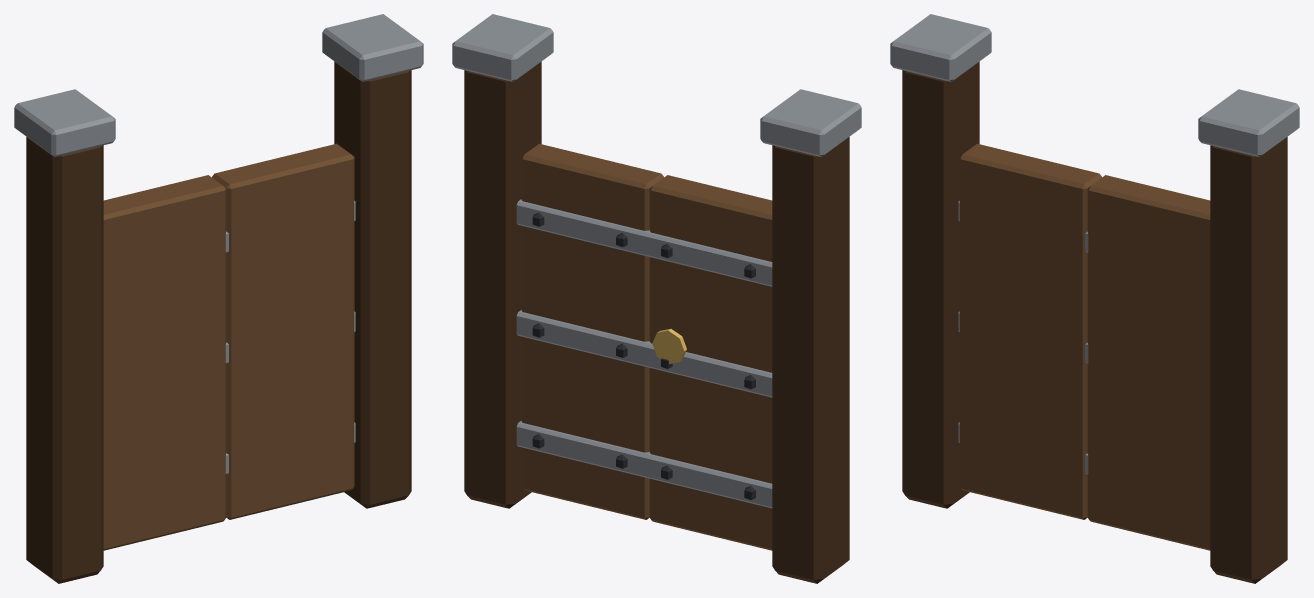
Rendered from gate_iron.fbx.
3 views of the same model, side by side, from view 1: azimuth 30°, elevation 25°; view 2: azimuth 150°, elevation 25°; view 3: azimuth 330°, elevation 25° (orthographic).
Parts seen in each view (by area): view 1: Prop, DoorL, DoorR; view 2: Prop, DoorL, DoorR; view 3: Prop, DoorR, DoorL.
Boxes of the visible parts, bbox=[...] form: Prop: bbox=[14, 14, 423, 583]; DoorL: bbox=[212, 143, 355, 519]; DoorR: bbox=[103, 175, 227, 550]; Prop: bbox=[452, 14, 861, 583]; DoorL: bbox=[516, 143, 663, 519]; DoorR: bbox=[644, 175, 772, 550]; Prop: bbox=[890, 14, 1299, 583]; DoorR: bbox=[958, 143, 1101, 519]; DoorL: bbox=[1086, 175, 1210, 550].
Bounding box in the file's own units: 1.16 × 0.22 × 1.37.
